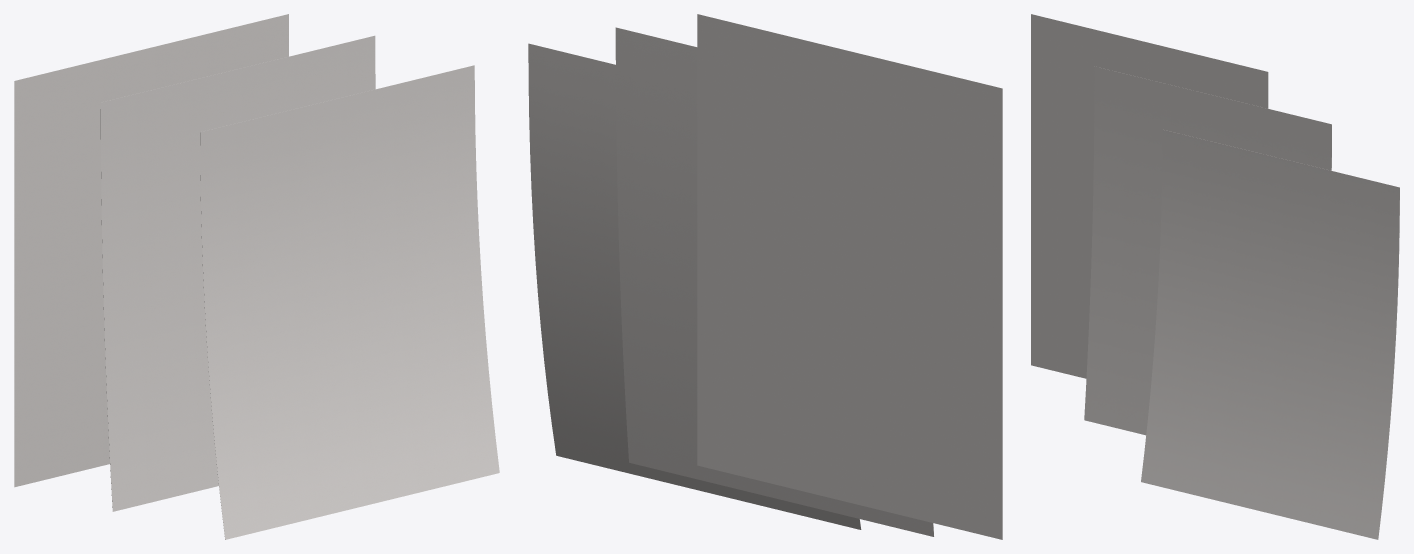
Rendered from paper.glb.
3 renders of one model, left to right at view 1: azimuth 30°, elevation 25°; view 2: azimuth 150°, elevation 25°; view 3: azimuth 330°, elevation 25°, orthographic. The views are drawn at different scales.
Visible parts, largest first — view 1: Paper3_Material #27_0, Paper2_Paper2_0, Paper_Paper_0; view 2: Paper_Paper_0, Paper2_Paper2_0, Paper3_Material #27_0; view 3: Paper3_Material #27_0, Paper2_Paper2_0, Paper_Paper_0.
Part boxes in pixels (bbox=[...]): Paper3_Material #27_0: bbox=[200, 65, 499, 539]; Paper2_Paper2_0: bbox=[100, 35, 375, 511]; Paper_Paper_0: bbox=[14, 14, 288, 487]; Paper_Paper_0: bbox=[697, 14, 1002, 539]; Paper2_Paper2_0: bbox=[615, 27, 934, 536]; Paper3_Material #27_0: bbox=[528, 43, 861, 529]; Paper3_Material #27_0: bbox=[1141, 129, 1399, 539]; Paper2_Paper2_0: bbox=[1084, 66, 1331, 435]; Paper_Paper_0: bbox=[1031, 14, 1268, 378].
Size of the model in its own units: 0.3393 by 0.3431 by 0.0557.
3 materials, 3 textured.
